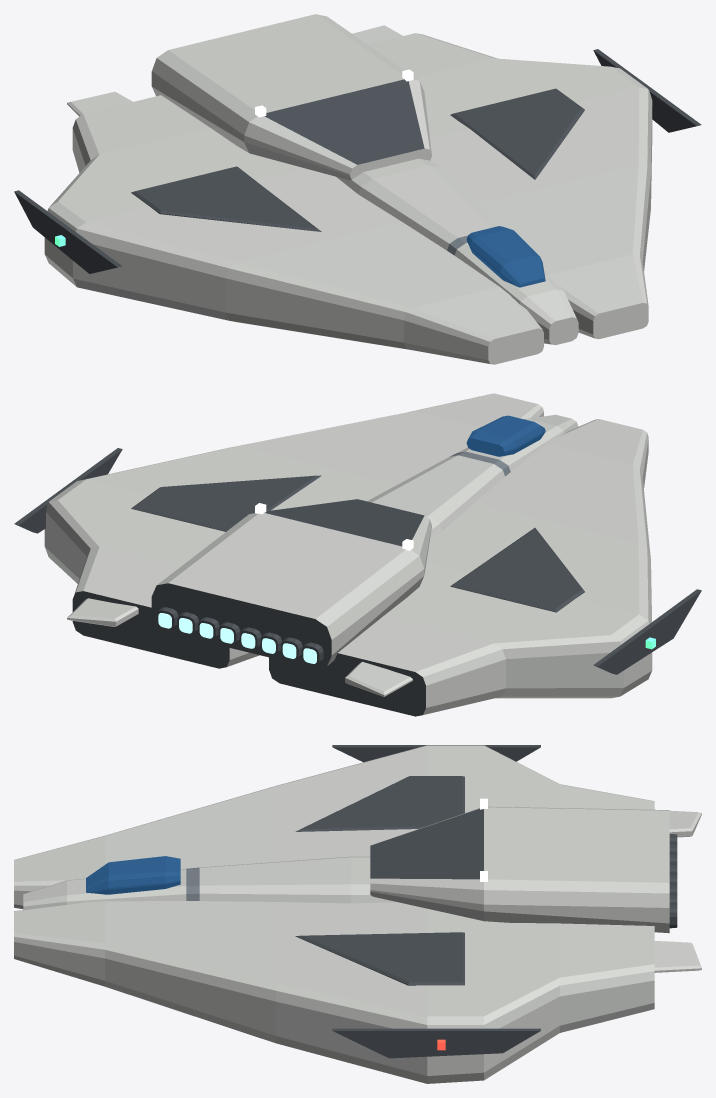
The model's file is krait-phantom.glb.
3 views of the same model, one above another, from view 1: azimuth 30°, elevation 25°; view 2: azimuth 150°, elevation 25°; view 3: azimuth 270°, elevation 25° (orthographic).
Parts seen in each view (by area): view 1: krait-phantom; view 2: krait-phantom; view 3: krait-phantom.
Boxes of the visible parts, box(x1,y1,x2,y2) form: krait-phantom: box(14, 14, 701, 364); krait-phantom: box(14, 393, 701, 716); krait-phantom: box(14, 745, 701, 1083).
Size of the model in its own units: 72.97 by 16.07 by 72.6.
